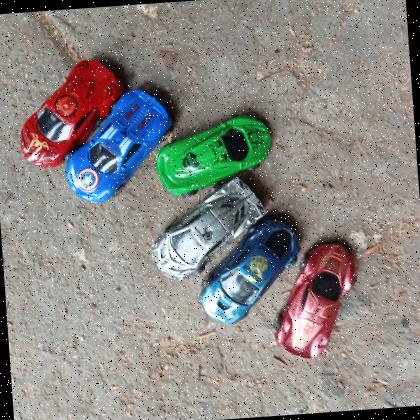Car: (58, 86, 178, 206), (146, 172, 272, 284), (13, 56, 130, 170), (195, 215, 306, 326), (268, 238, 364, 362), (151, 112, 276, 200)
